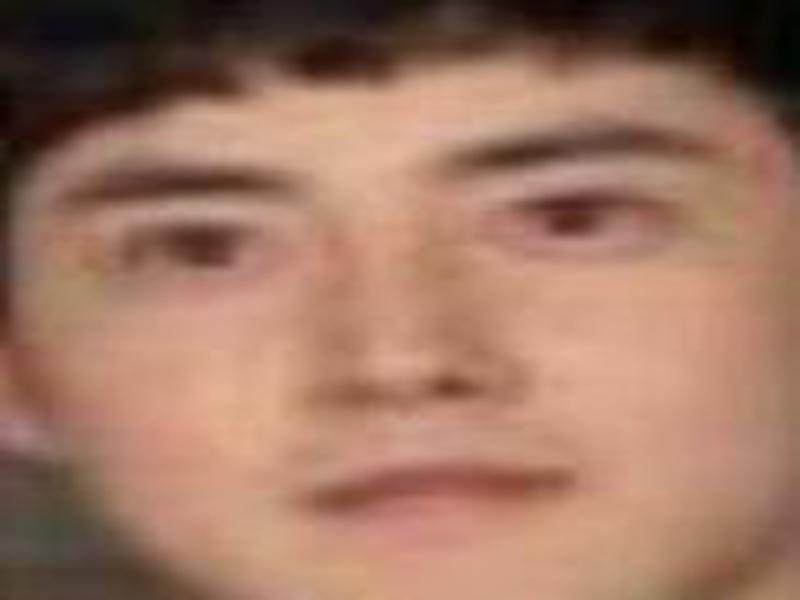without_mask: (21, 65, 772, 585)
